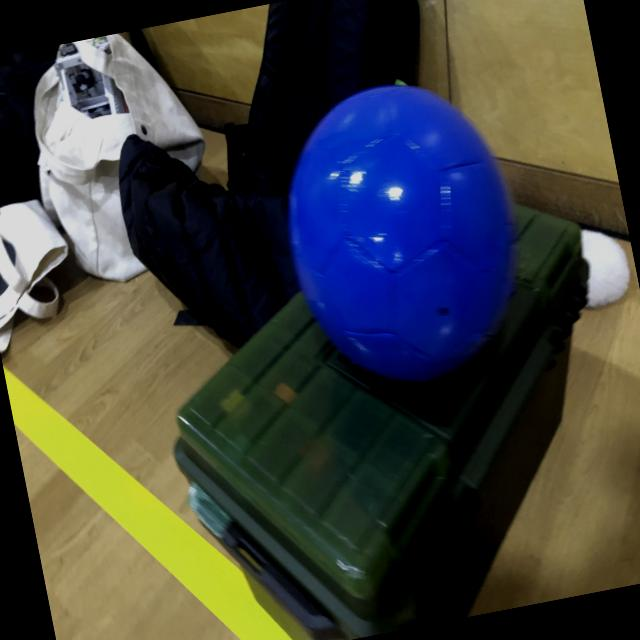blue_ball: (259, 64, 542, 407)
